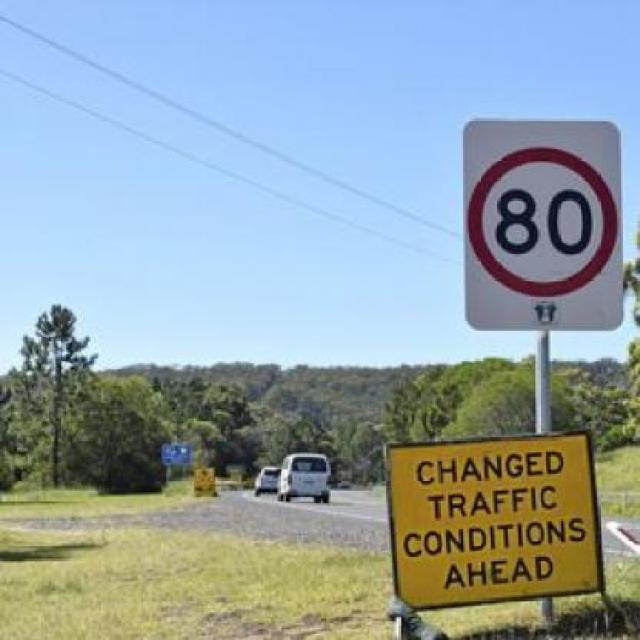forb_speed_over_80: (470, 149, 618, 294)
